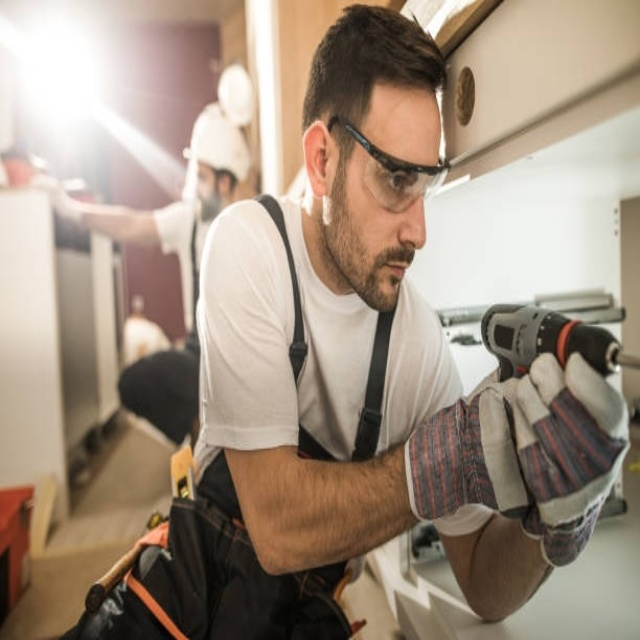Gafas: (330, 115, 452, 210)
Guantes: (504, 347, 631, 565), (407, 342, 519, 543)
Sin_mascara: (358, 246, 416, 309)
